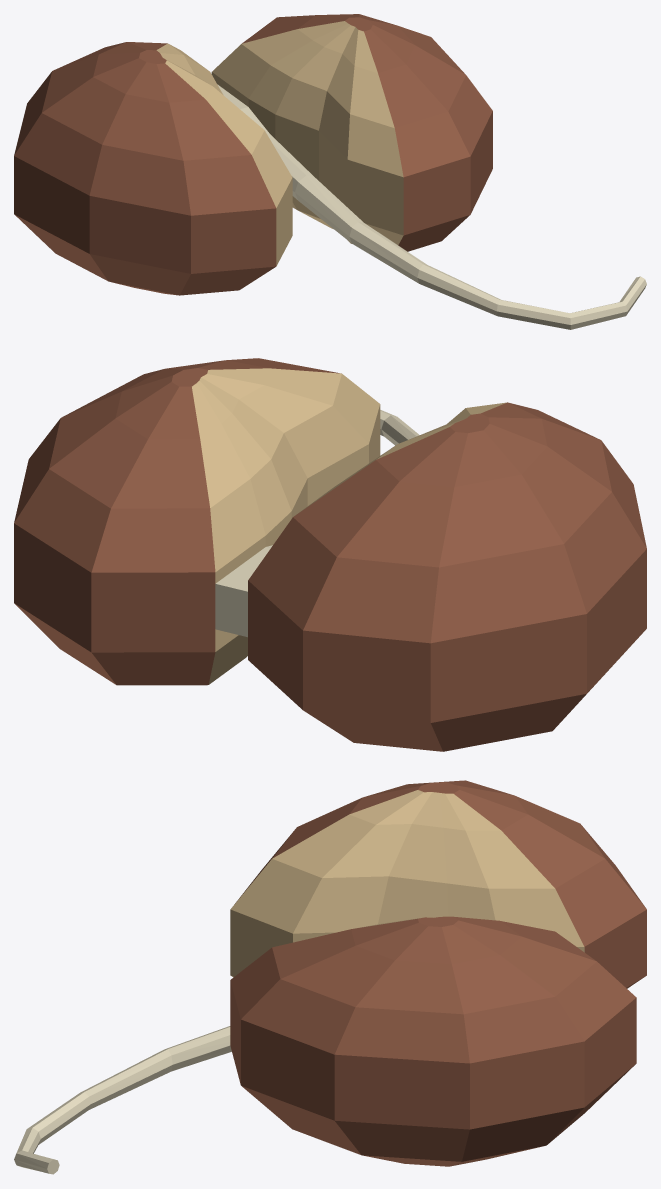
The picture shows the model from 3 angles, top to bottom: view 1: azimuth 30°, elevation 25°; view 2: azimuth 150°, elevation 25°; view 3: azimuth 270°, elevation 25°; orthographic projection. The views are drawn at different scales.
Visible parts, largest first — view 1: WholeRoundedLeftSeedCotyledon, WholeRoundedRightSeedCotyledon, ContinuousTaperedEmergingRadicle; view 2: WholeRoundedLeftSeedCotyledon, WholeRoundedRightSeedCotyledon, ContinuousTaperedEmergingRadicle; view 3: WholeRoundedRightSeedCotyledon, WholeRoundedLeftSeedCotyledon, ContinuousTaperedEmergingRadicle.
Part boxes in pixels (x1=…): WholeRoundedLeftSeedCotyledon: x1=14, y1=42, x2=292, y2=295; WholeRoundedRightSeedCotyledon: x1=211, y1=14, x2=492, y2=251; ContinuousTaperedEmergingRadicle: x1=217, y1=84, x2=646, y2=329; WholeRoundedLeftSeedCotyledon: x1=248, y1=402, x2=646, y2=751; WholeRoundedRightSeedCotyledon: x1=14, y1=358, x2=380, y2=685; ContinuousTaperedEmergingRadicle: x1=215, y1=410, x2=419, y2=637; WholeRoundedRightSeedCotyledon: x1=230, y1=916, x2=636, y2=1166; WholeRoundedLeftSeedCotyledon: x1=230, y1=780, x2=646, y2=988; ContinuousTaperedEmergingRadicle: x1=14, y1=1026, x2=231, y2=1174.
Size of the model in its own units: 0.0545 by 0.026 by 0.0608.
